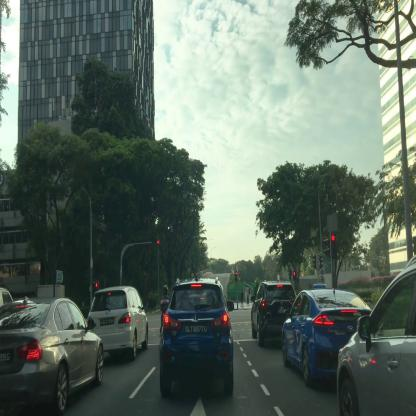red_traffic_light: (330, 233, 336, 258), (152, 238, 159, 244), (235, 270, 237, 282)
